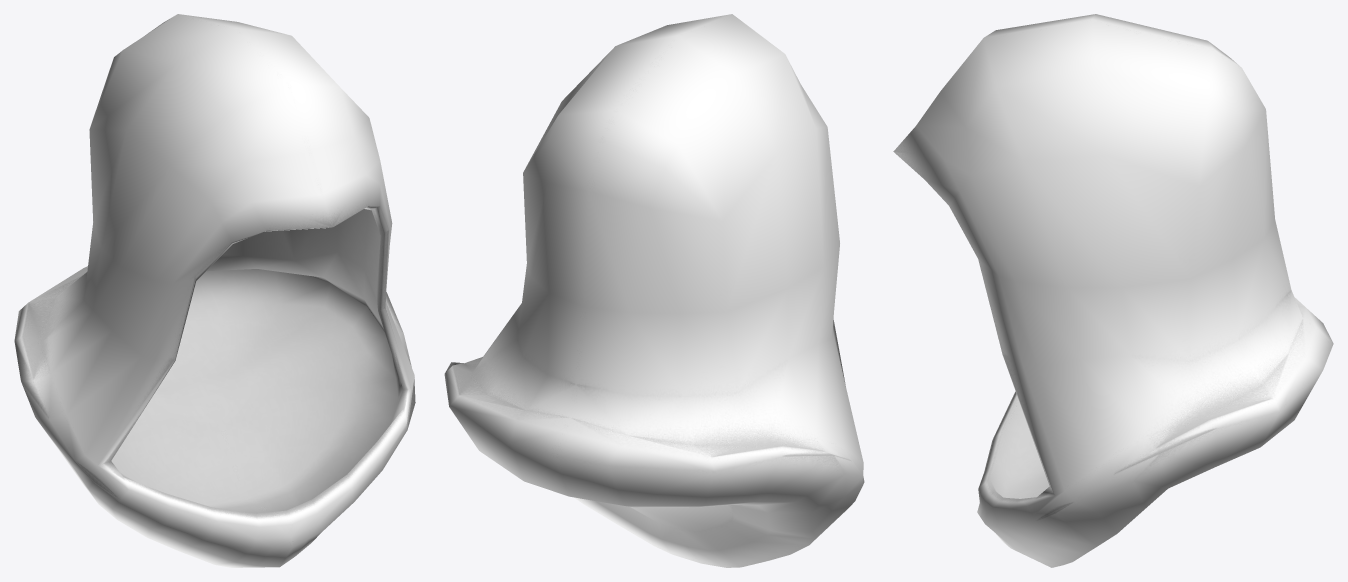
File: silk_hood.glb
3 renders of one model, left to right at view 1: azimuth 30°, elevation 25°; view 2: azimuth 150°, elevation 25°; view 3: azimuth 270°, elevation 25°, orthographic. The views are drawn at different scales.
Parts seen in each view (by area): view 1: silk_hood_export; view 2: silk_hood_export; view 3: silk_hood_export.
Boxes of the visible parts, x1,y1,x2,y2 form: silk_hood_export: (14,14,415,567); silk_hood_export: (444,14,864,567); silk_hood_export: (893,14,1333,567).
Size of the model in its own units: 1.5 by 2.05 by 1.52.
1 material, 1 textured.
